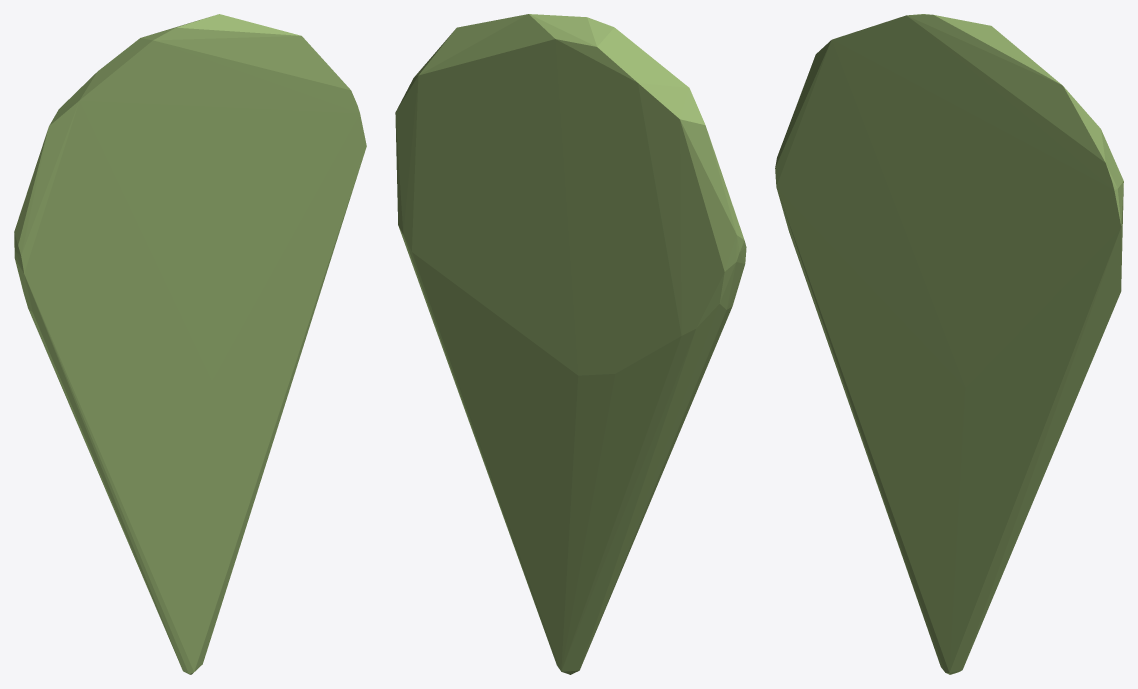
The model's file is kitchenware_pan_u01.glb.
The picture shows the model from 3 angles, left to right: view 1: azimuth 30°, elevation 25°; view 2: azimuth 150°, elevation 25°; view 3: azimuth 330°, elevation 25°; orthographic projection.
Visible parts, largest first — view 1: geometry_0; view 2: geometry_0; view 3: geometry_0.
Boxes of the visible parts, x1=… form: geometry_0: x1=14, y1=14, x2=366, y2=674; geometry_0: x1=395, y1=14, x2=746, y2=674; geometry_0: x1=775, y1=14, x2=1123, y2=674.
Bounding box in the file's own units: 0.2656 × 0.4792 × 0.0224.
